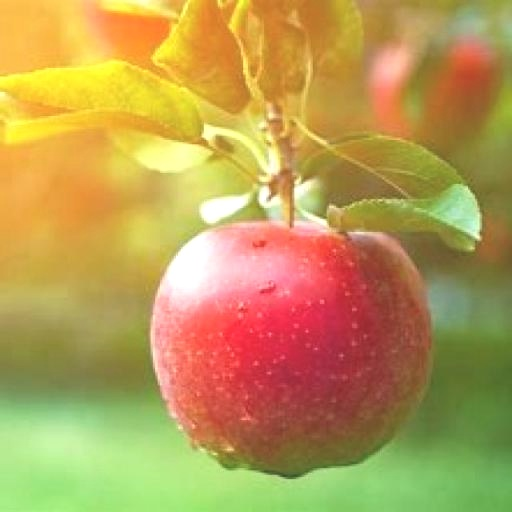fruit: (151, 223, 429, 475), (420, 36, 499, 151)
